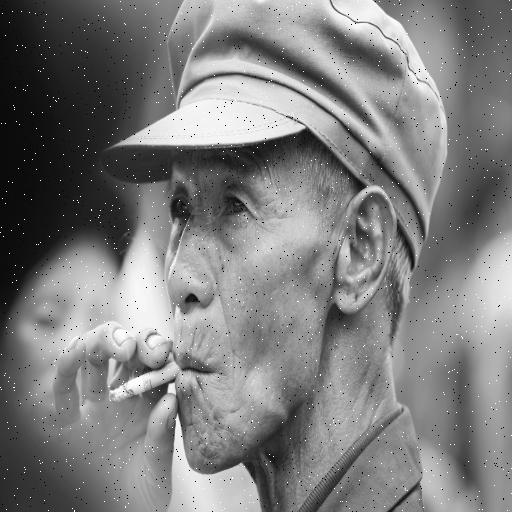merokok: (114, 148, 229, 453)
